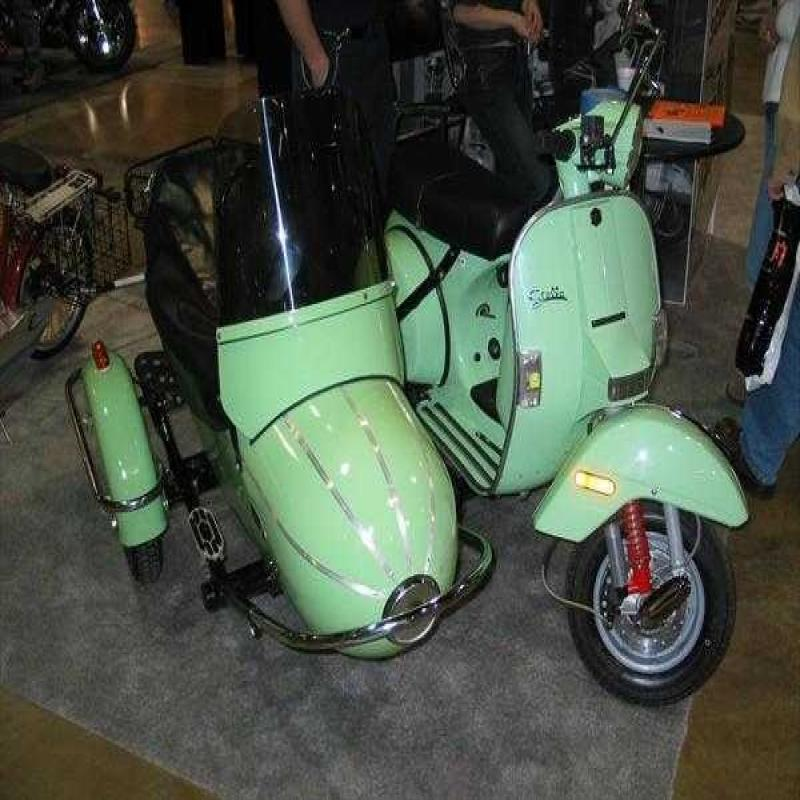bike: (405, 59, 748, 709)
